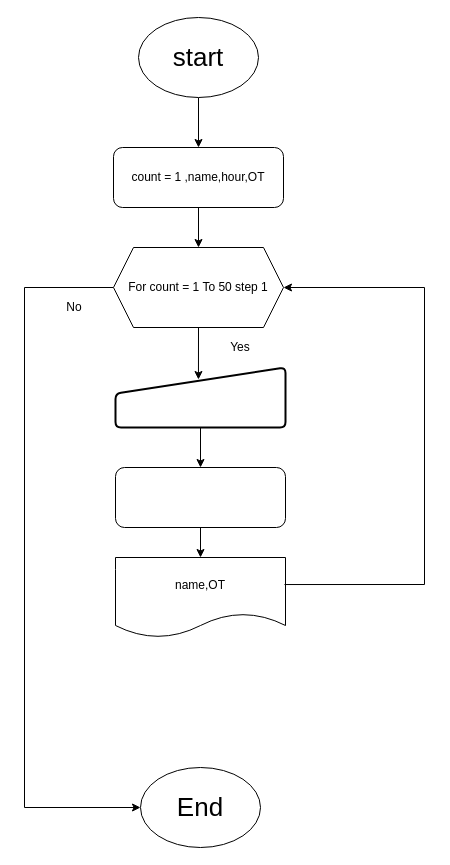
Some shapes in this 450 by 865 pixel diagram are drawn without their labels. The shapes that lost their labels are listed below. From the top down, each one's centre as x and y in pixels, then its label:
(200,397): input name,hour
(200,497): OT=hour*300
